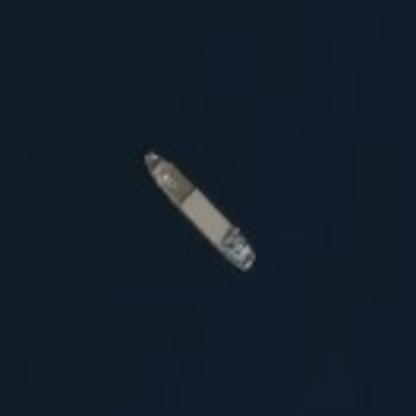ship: (136, 146, 260, 276)
